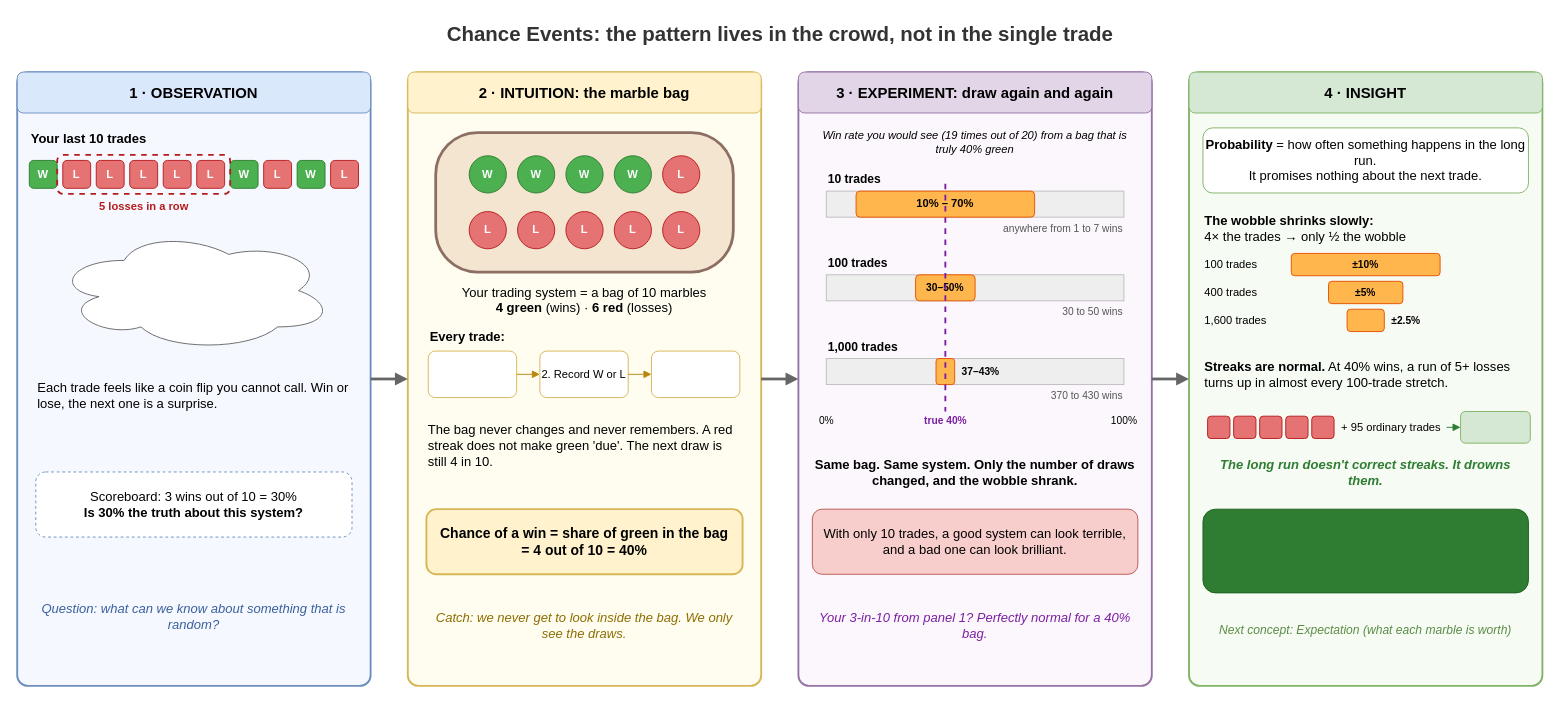
The diagram is 1559 pixels wide and 702 high, and some of its shapes have lost their labels. Each missing label, with the centre of its shape:
1. Draw one marble: pixel 472 374
3. Put it back: pixel 695 374
Is my system broken? Should I change it?: pixel 193 290
Judge a system by its 100th trade, not its last one.: pixel 1365 550
≈ 38% overall: pixel 1495 427
